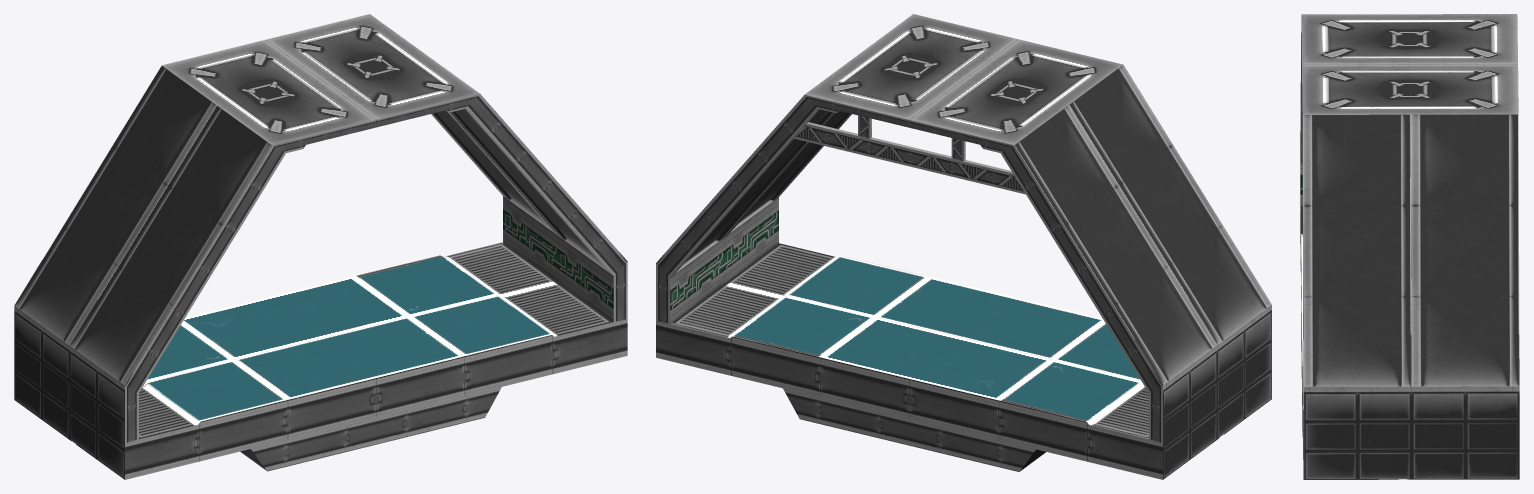
File: ARC1110026.fbx
3 views of the same model, side by side, from view 1: azimuth 30°, elevation 25°; view 2: azimuth 150°, elevation 25°; view 3: azimuth 270°, elevation 25° (orthographic).
Visible parts, largest first — view 1: smARC1110026; view 2: smARC1110026; view 3: smARC1110026.
Part boxes in pixels (left/top/right/bottom): smARC1110026: left=14, top=14, right=627, bottom=479; smARC1110026: left=656, top=14, right=1271, bottom=479; smARC1110026: left=1300, top=14, right=1519, bottom=479.
Bounding box in the file's own units: 530 × 326 × 202.
Materials: 1 (1 with a texture image).
